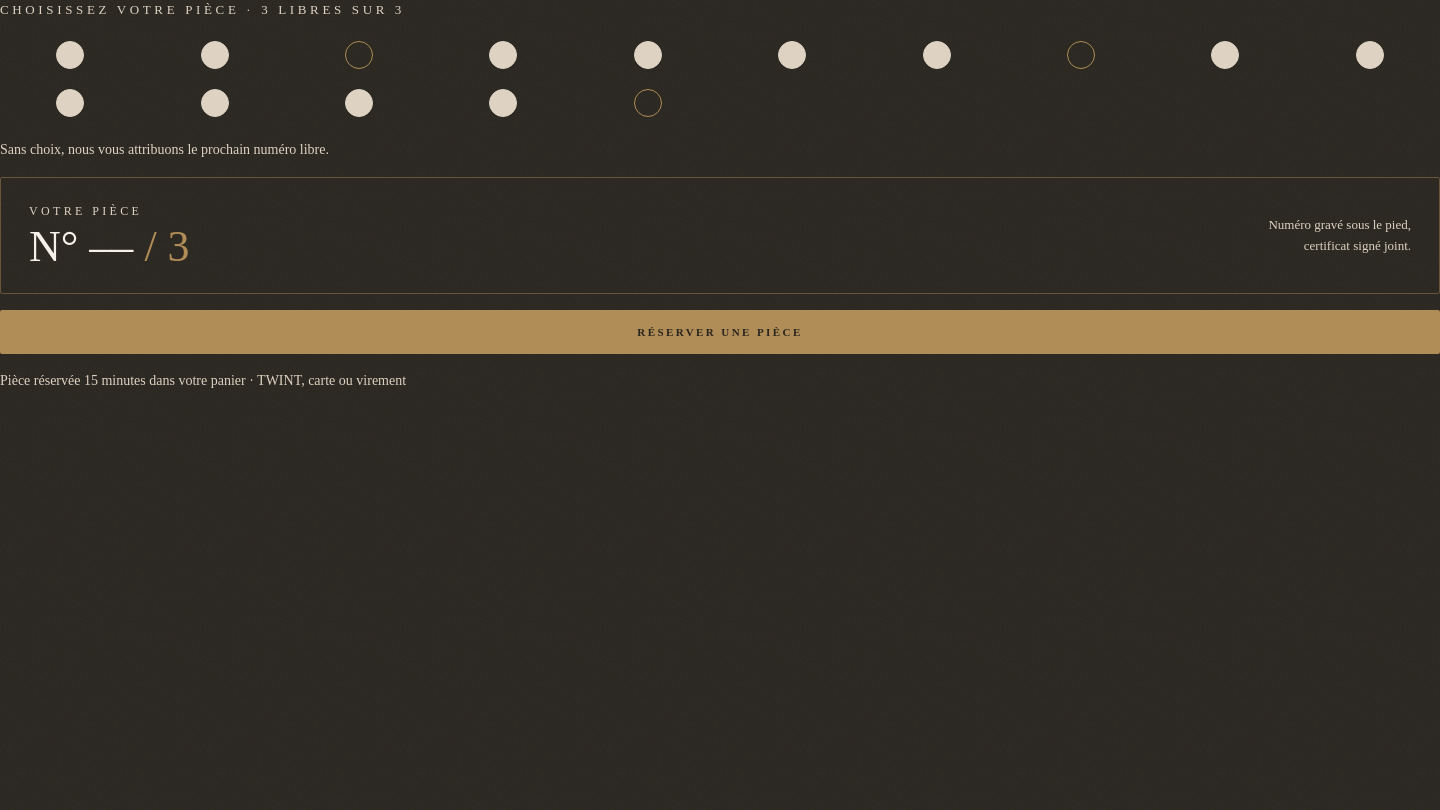
Test: E5-02 · réservation temporaire › à l'ajout d'un Premium, annonce la réservation et sa durée
The width and height of the screenshot is (1440, 810).
What coordinates should you click on to do the following:
click the button "Réserver une pièce"
I would click on:
 (720, 332)
Its box is 0,310 -> 1439,354.
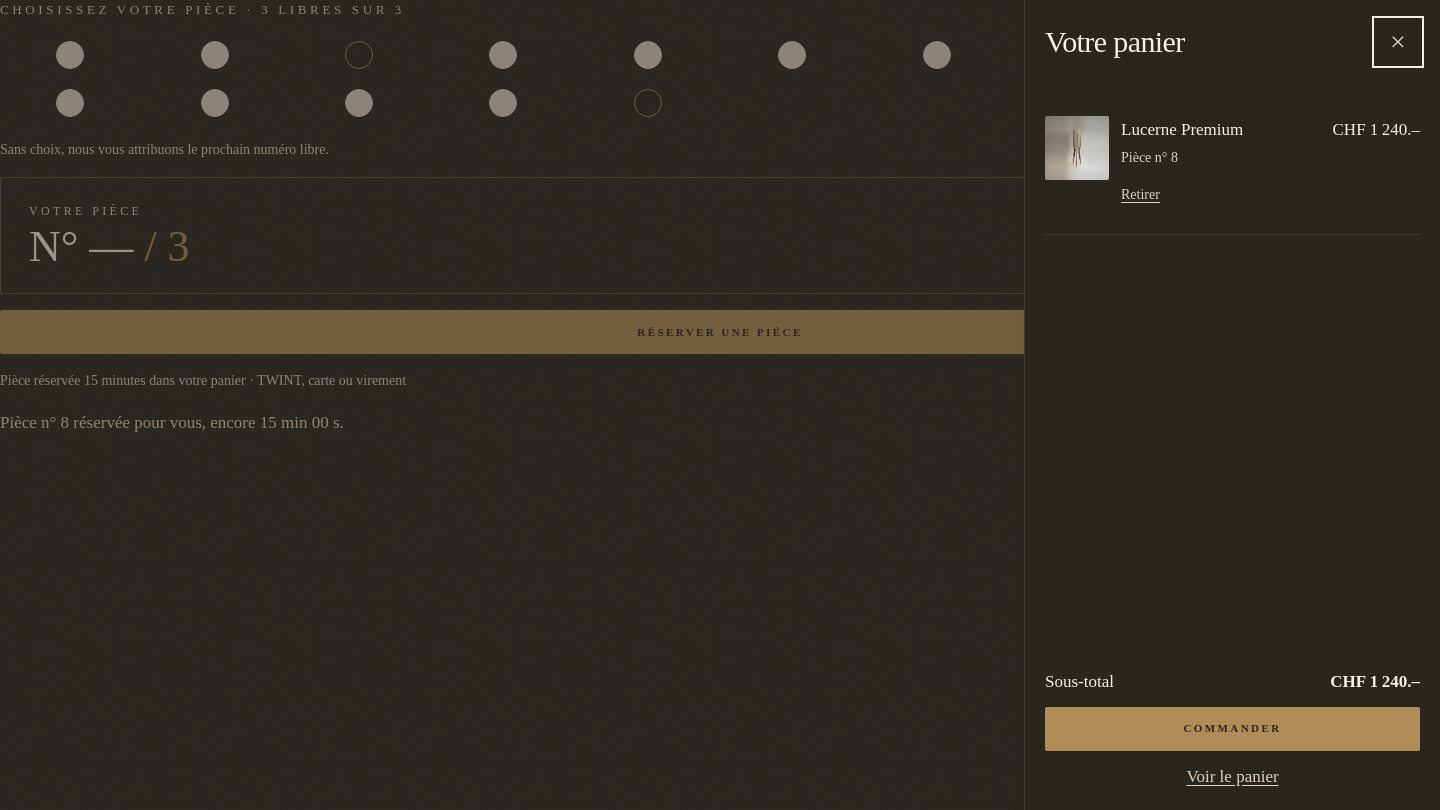
Expected: the text "Pièce n° 8 réservée pour vous, encore 15 min 00 s." is shown, 0,413 -> 344,432
